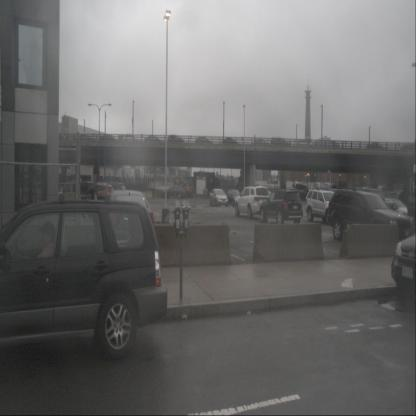vehicle-car: (0, 200, 168, 361), (327, 188, 414, 248), (108, 189, 155, 245), (391, 232, 416, 300), (259, 189, 303, 226), (305, 189, 343, 225), (57, 180, 97, 212), (234, 186, 270, 220), (376, 197, 408, 220), (98, 182, 127, 205), (87, 183, 115, 203), (160, 185, 186, 200), (210, 188, 228, 206), (225, 188, 242, 206), (293, 182, 310, 196), (270, 138, 289, 148), (367, 141, 385, 150), (400, 144, 416, 153), (253, 137, 269, 146), (168, 135, 184, 144), (222, 137, 238, 146), (196, 136, 212, 145), (99, 133, 115, 142), (145, 134, 161, 143), (123, 133, 138, 142), (78, 133, 92, 142), (56, 133, 67, 142)
vehicle-truck: (346, 189, 385, 222)
